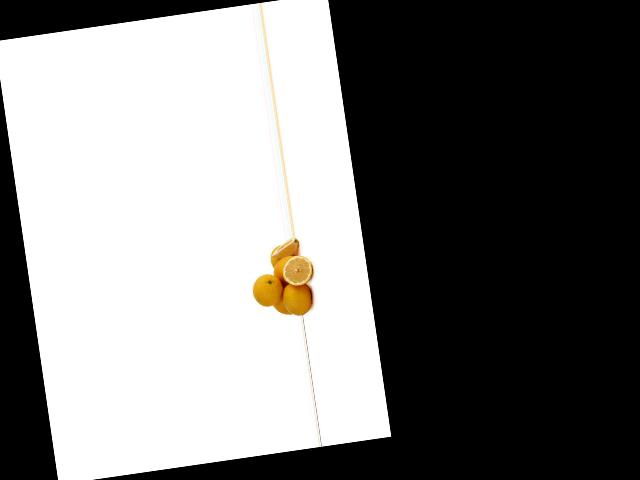lemon: (275, 278, 316, 317)
